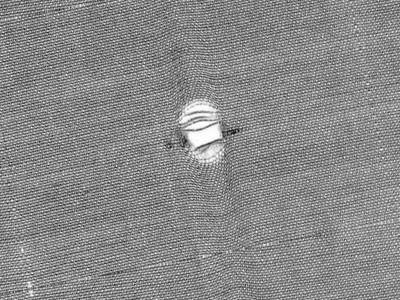hole: (175, 96, 230, 166)
